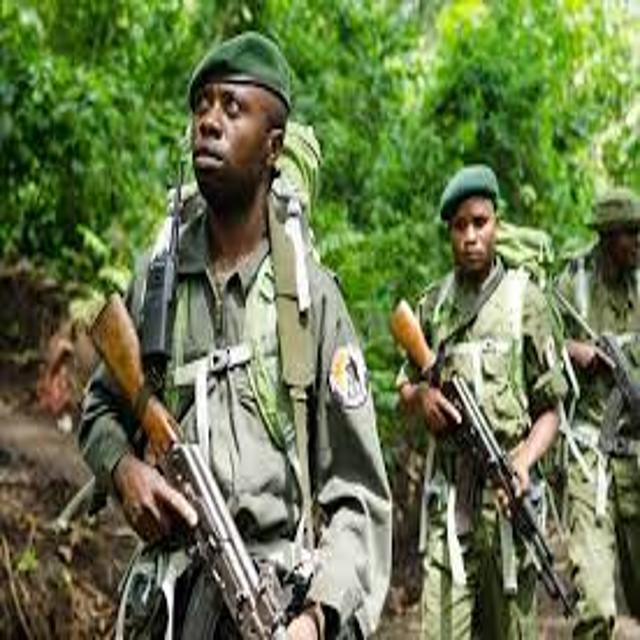gun: (54, 273, 314, 637), (368, 279, 599, 625)
ranger: (31, 27, 400, 639), (333, 137, 603, 633), (505, 149, 640, 626)
